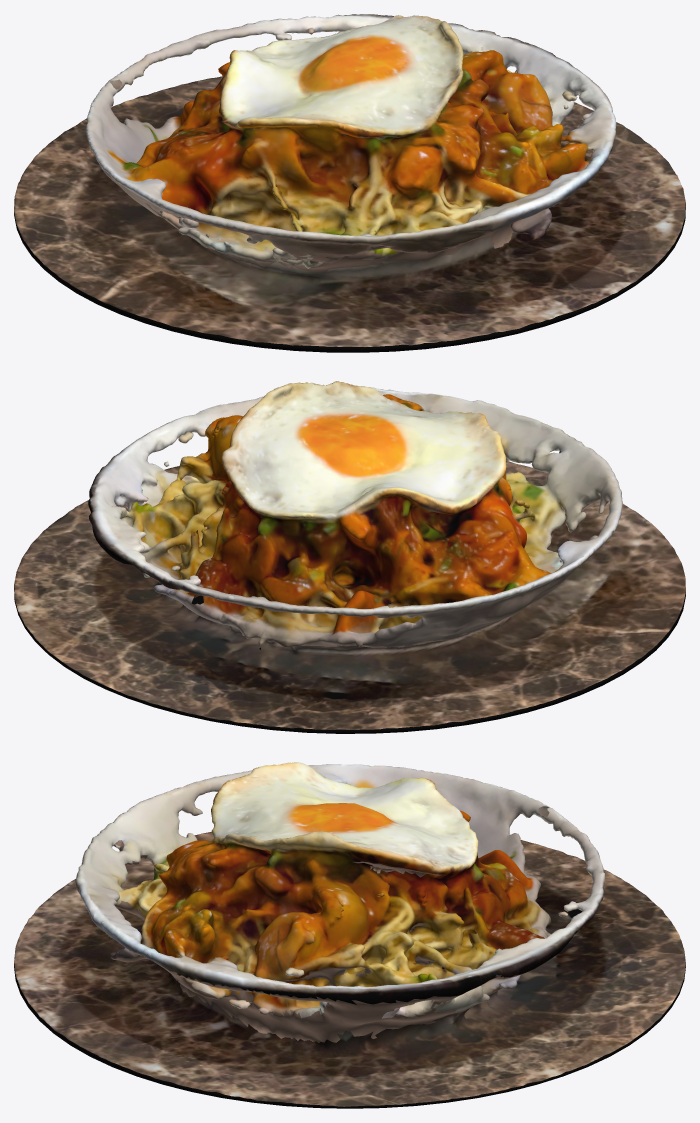
Rendered from americanc.glb.
3 views of the same model, one above another, from view 1: azimuth 30°, elevation 25°; view 2: azimuth 150°, elevation 25°; view 3: azimuth 270°, elevation 25° (orthographic).
Visible parts, largest first — view 1: model; view 2: model; view 3: model.
Part boxes in pixels (<box>): model: <box>14,14,685,352</box>; model: <box>14,381,685,733</box>; model: <box>14,762,685,1108</box>.
Bounding box in the file's own units: 3.75 × 1.08 × 3.75.
Materials: 3 (3 with a texture image).
